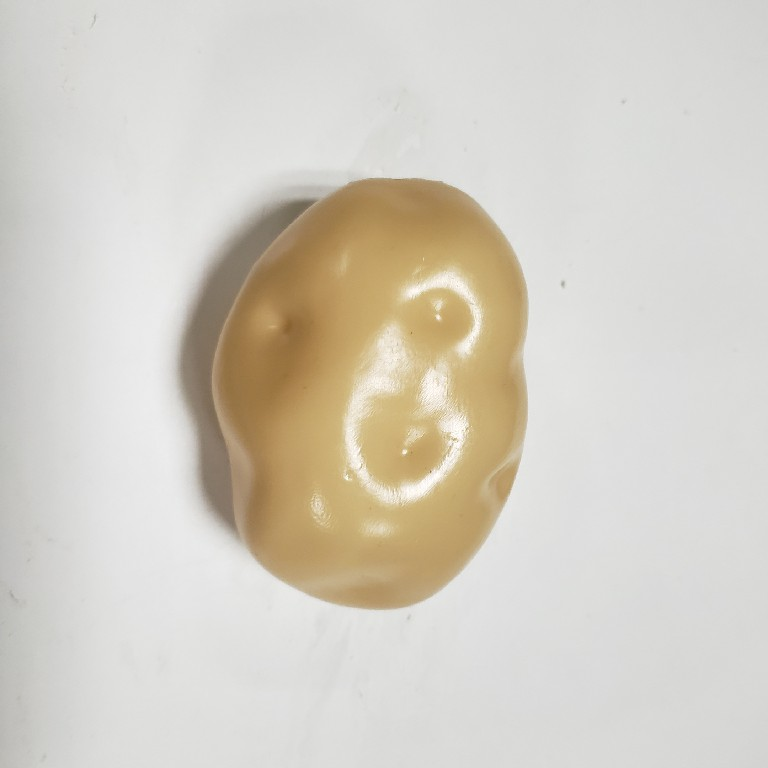fruit_potato: (204, 172, 534, 614)
